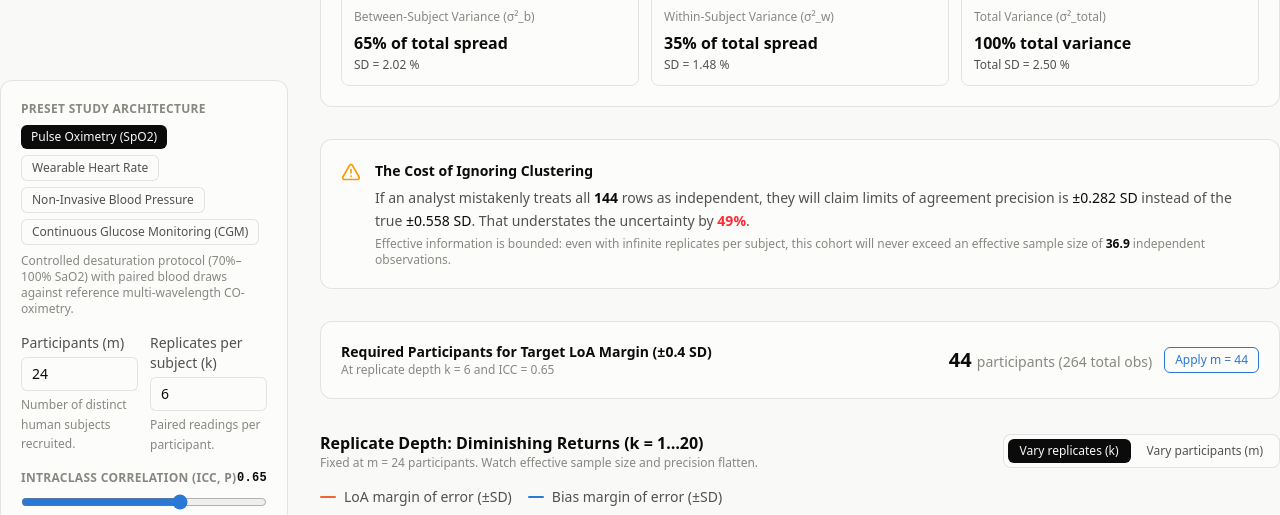
RepeatedMeasuresPage › applies solved required m when apply button is clicked
The width and height of the screenshot is (1280, 515).
(page scrolled)
Click the button "Apply m = 44". click: (1212, 360)
box: [1164, 347, 1259, 373]
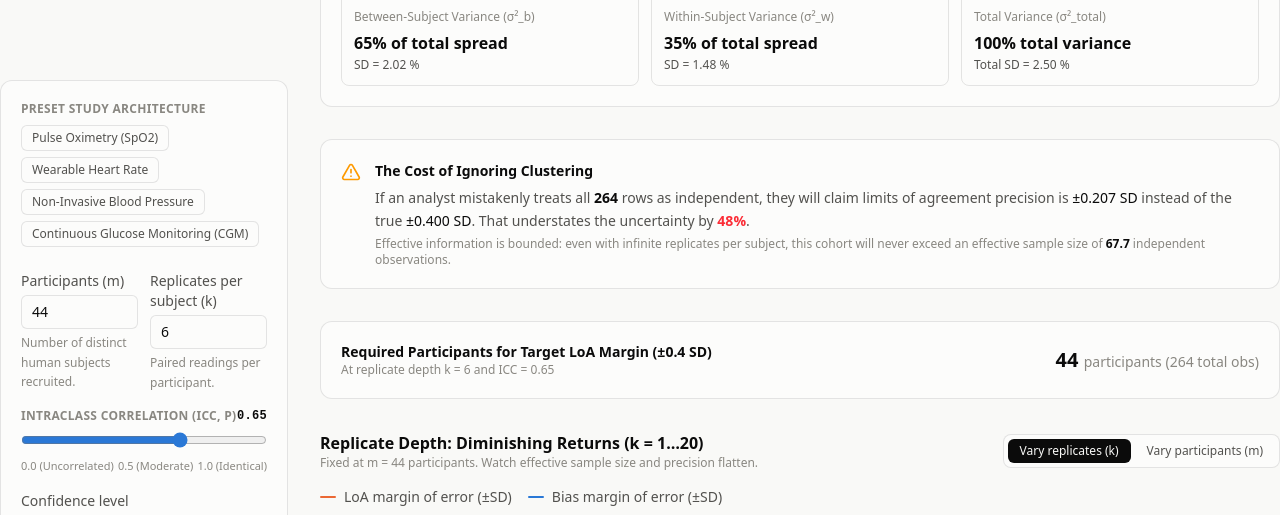
Now the button "Apply m =" is gone
